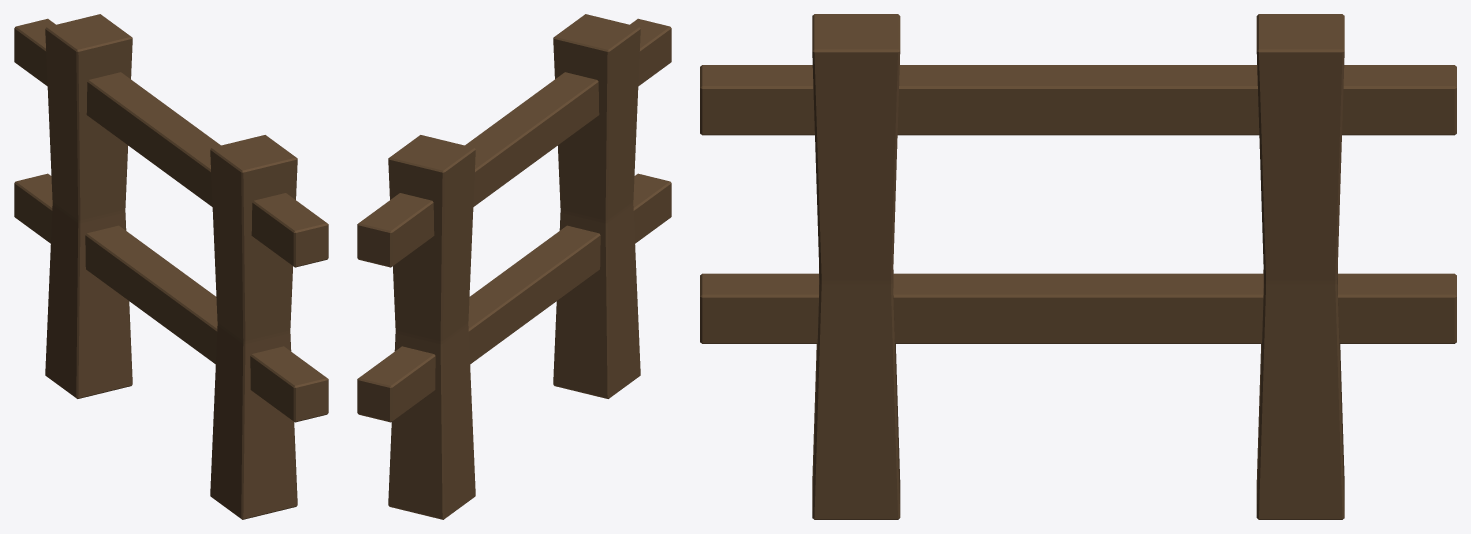
The model's file is fence.fbx.
The picture shows the model from 3 angles, left to right: view 1: azimuth 30°, elevation 25°; view 2: azimuth 150°, elevation 25°; view 3: azimuth 270°, elevation 25°; orthographic projection. The views are drawn at different scales.
Parts seen in each view (by area): view 1: Cube; view 2: Cube; view 3: Cube.
Boxes of the visible parts, <box> form: Cube: <box>14,14,328,519</box>; Cube: <box>357,14,671,519</box>; Cube: <box>700,14,1456,519</box>.
Bounding box in the file's own units: 40.43 × 239 × 348.
